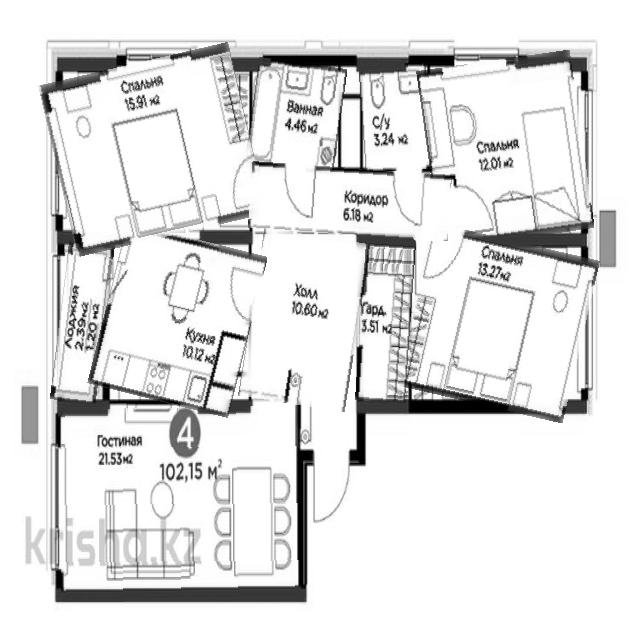balcony: (55, 238, 110, 403)
bathroom: (248, 60, 343, 174), (360, 62, 431, 171)
hallway: (245, 232, 365, 408)
kitchen: (96, 230, 259, 411)
living_room: (59, 406, 301, 601), (46, 52, 259, 248), (403, 231, 592, 414), (422, 55, 589, 245)
other: (249, 165, 451, 238), (358, 239, 413, 403)
